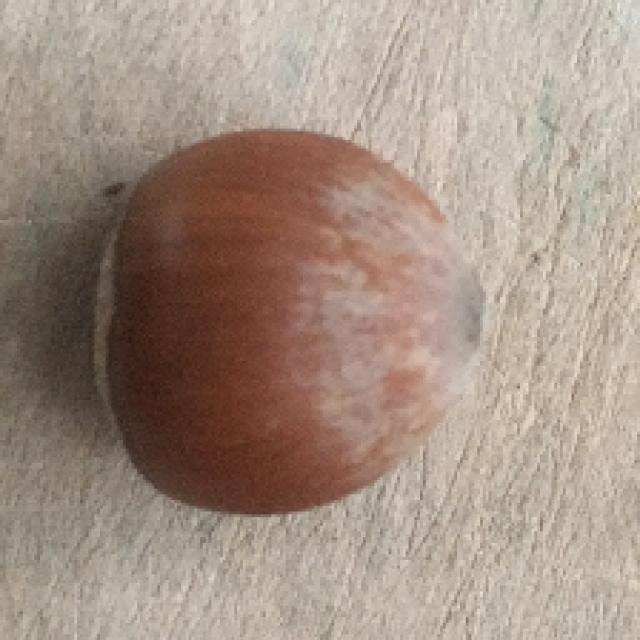qualityHazelnut: (92, 128, 499, 515)
